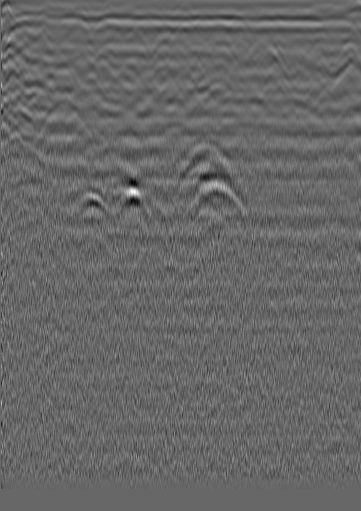가스: (115, 183, 150, 220)
상수: (310, 61, 330, 81)
오수: (31, 28, 51, 48)
우수: (187, 51, 207, 71)
